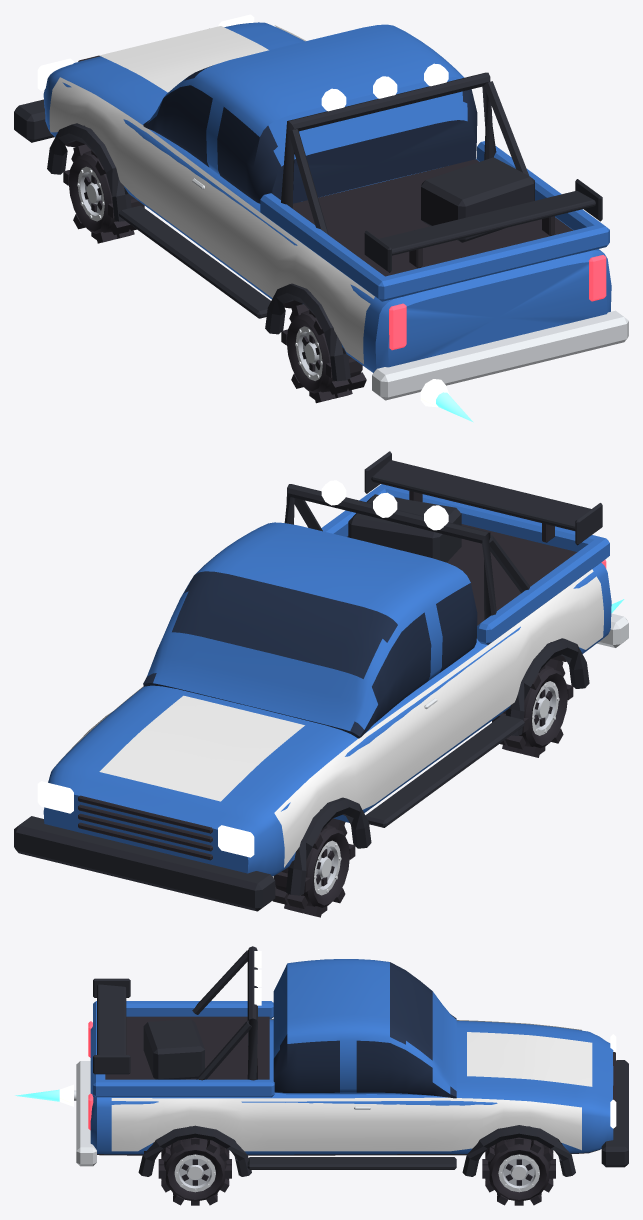
File: car_pickup.glb
3 views of the same model, one above another, from view 1: azimuth 30°, elevation 25°; view 2: azimuth 150°, elevation 25°; view 3: azimuth 270°, elevation 25° (orthographic). The views are drawn at different scales.
Parts seen in each view (by area): view 1: Body, Vinyl, Spoiler, WheelRL, WheelFL, NitroFlame; view 2: Body, Vinyl, Spoiler, WheelFL, WheelRL; view 3: Body, Vinyl, WheelFR, WheelRR, Spoiler, NitroFlame.
Part boxes in pixels (left/top/right/bottom): Body: left=14, top=14, right=628, bottom=400; Vinyl: left=49, top=25, right=476, bottom=364; Spoiler: left=364, top=179, right=602, bottom=272; WheelRL: left=281, top=304, right=366, bottom=403; WheelFL: left=63, top=144, right=144, bottom=243; NitroFlame: left=420, top=379, right=473, bottom=422; Body: left=14, top=480, right=628, bottom=911; Vinyl: left=52, top=569, right=603, bottom=867; Spoiler: left=364, top=451, right=602, bottom=545; WheelFL: left=272, top=818, right=355, bottom=917; WheelRL: left=492, top=659, right=573, bottom=757; Body: left=74, top=946, right=628, bottom=1176; Vinyl: left=111, top=1019, right=592, bottom=1151; WheelFR: left=482, top=1137, right=555, bottom=1205; WheelRR: left=158, top=1137, right=231, bottom=1205; Spoiler: left=93, top=978, right=130, bottom=1074; NitroFlame: left=15, top=1084, right=73, bottom=1106.
Bounding box in the file's own units: 2.2 × 2.05 × 5.89.
